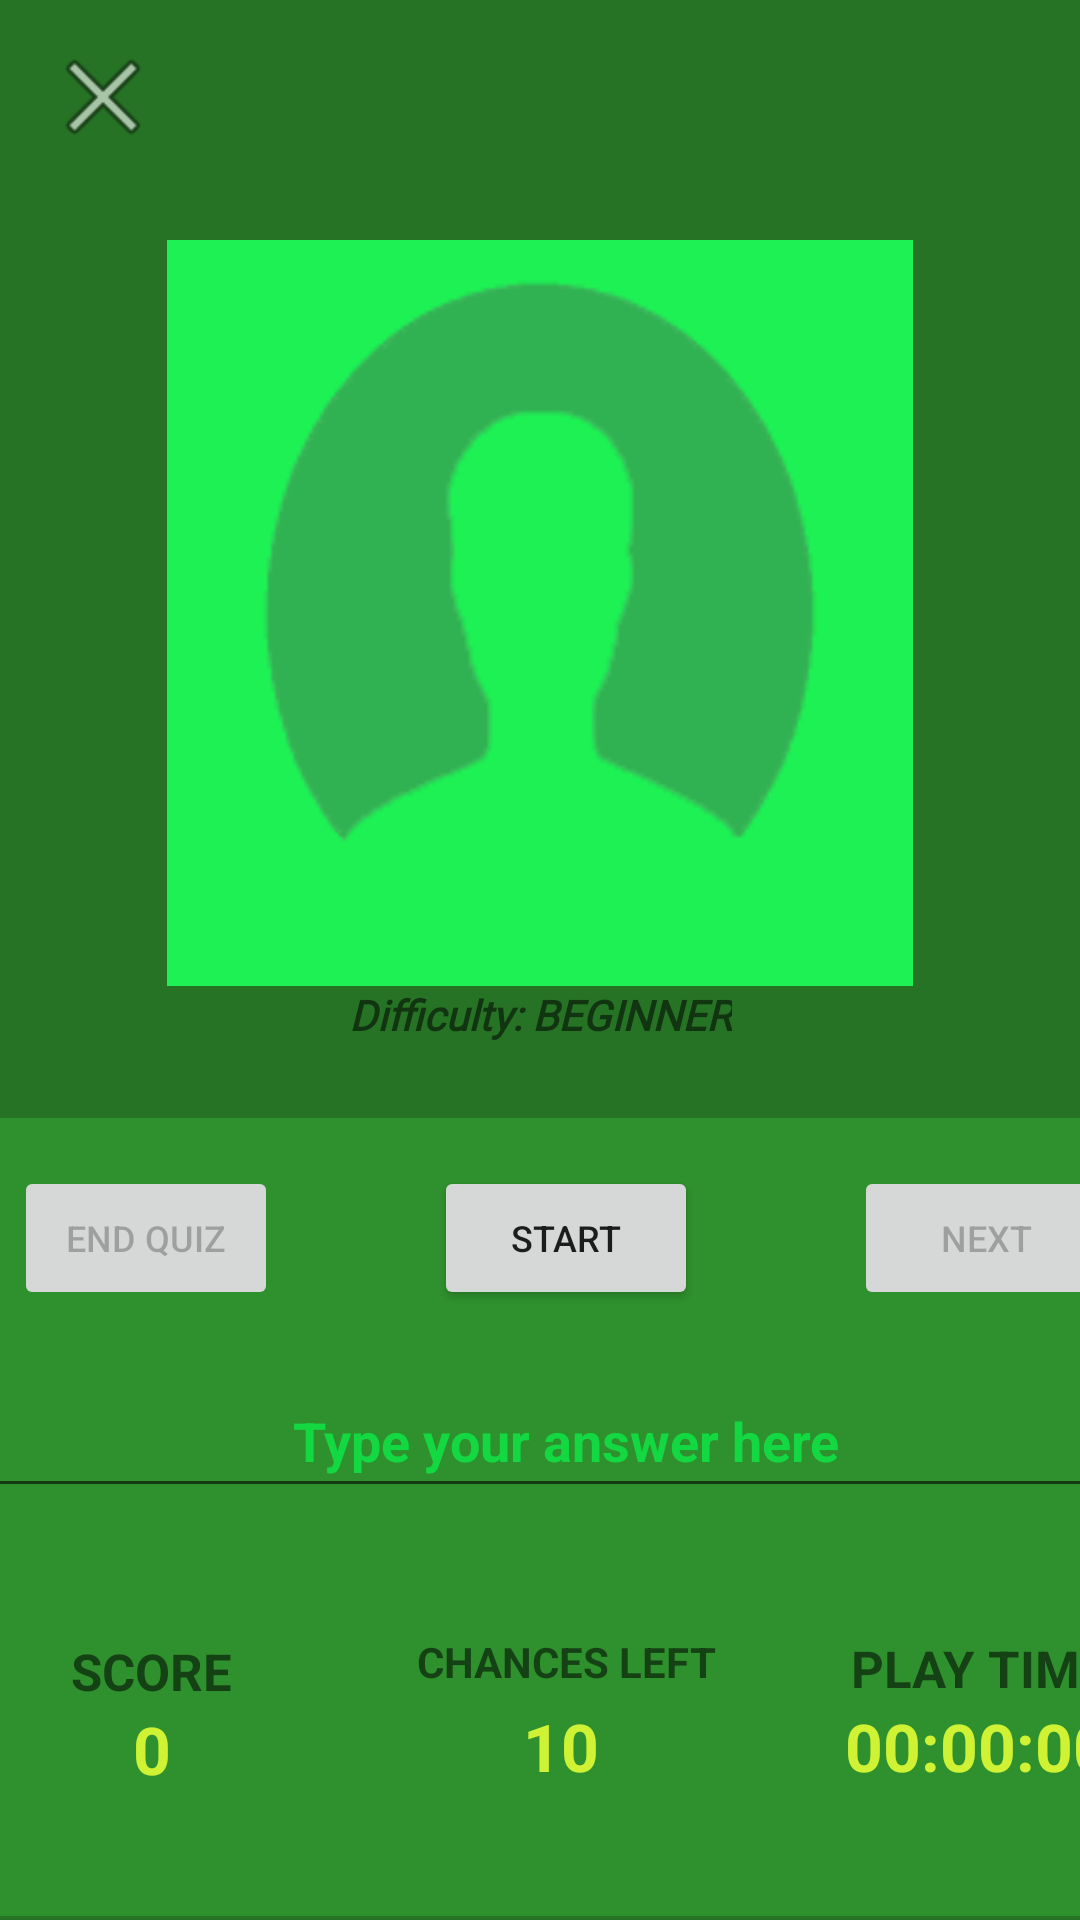

Icons on this 1080 × 1920 Android screen, each with the point to tap as (x,y):
close clear cancel: (103,97)
